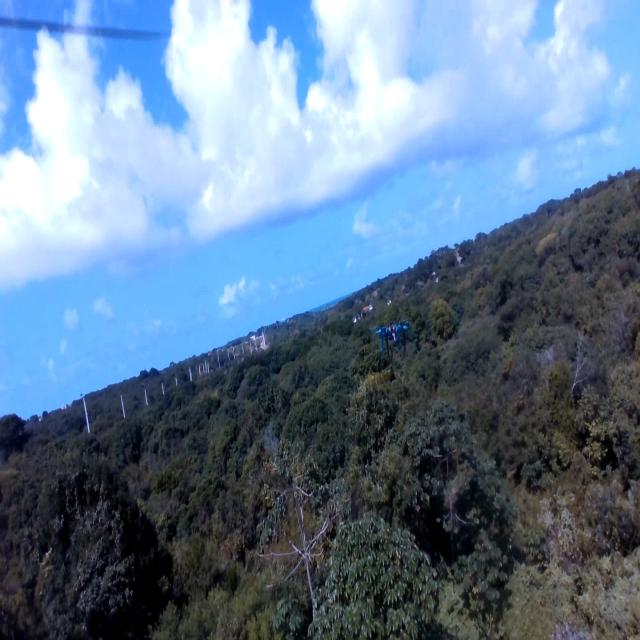-uav-: (370, 310, 416, 373)
